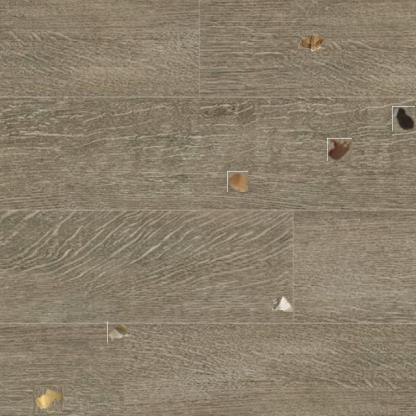dirty: (34, 386, 62, 414), (297, 32, 325, 54), (271, 294, 297, 314), (107, 321, 130, 343), (227, 171, 248, 192)
liquid: (392, 106, 415, 131), (328, 138, 352, 161)
